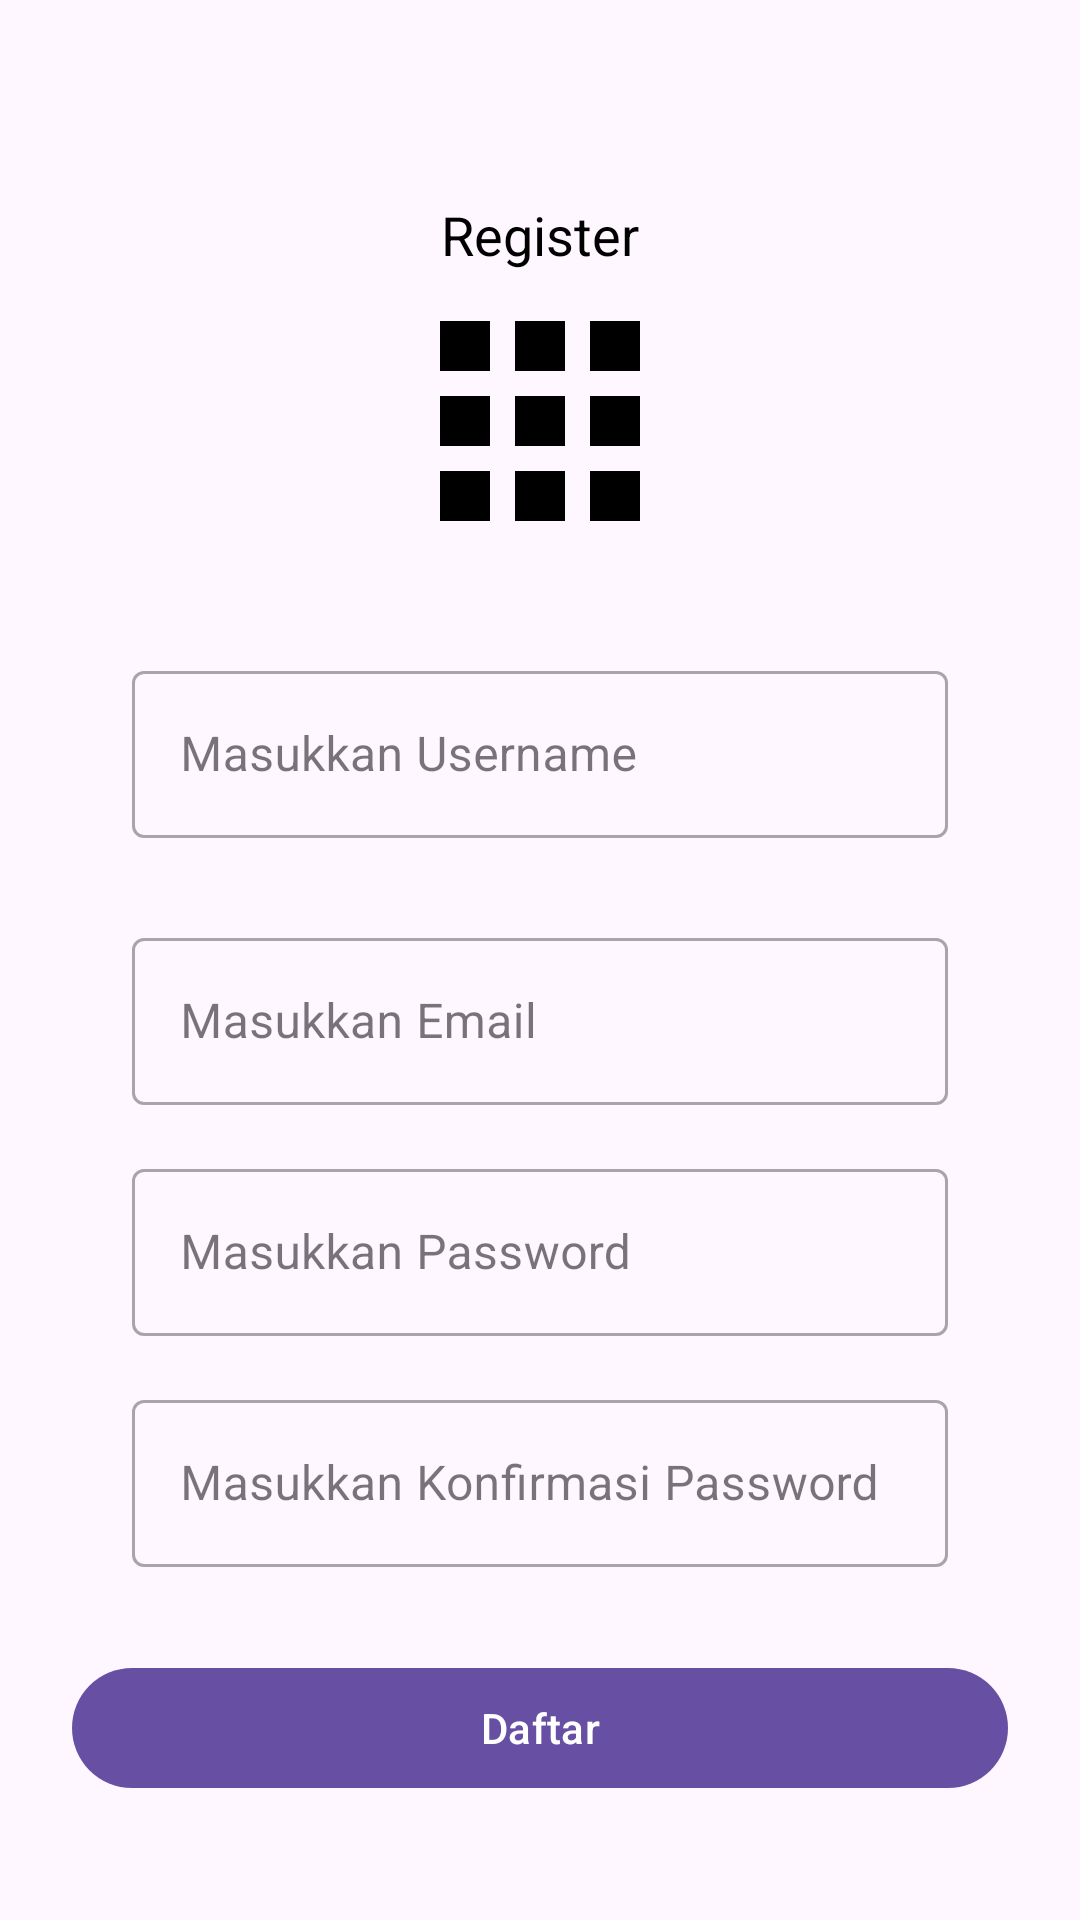

Where icons sit on this 1080px×1920px app screen, as box=[x1, y1, x2, y2]:
apps: box=[440, 321, 640, 521]
